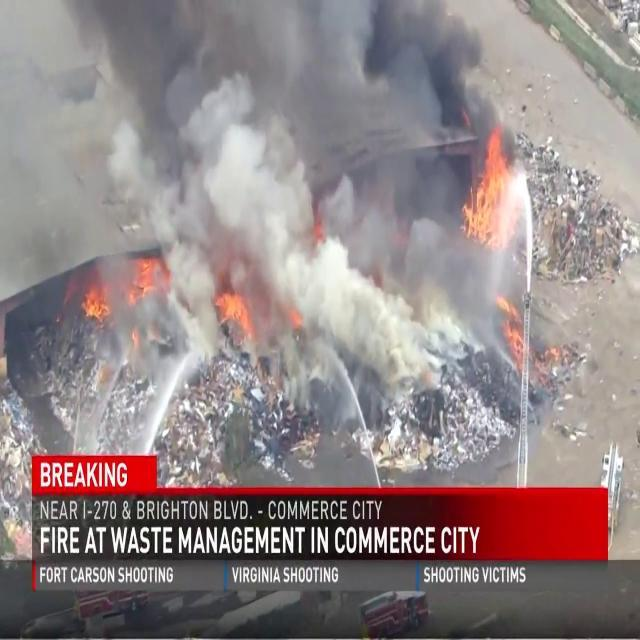Fire: (79, 242, 170, 334), (461, 124, 518, 248)
Smoke: (39, 0, 508, 441)
